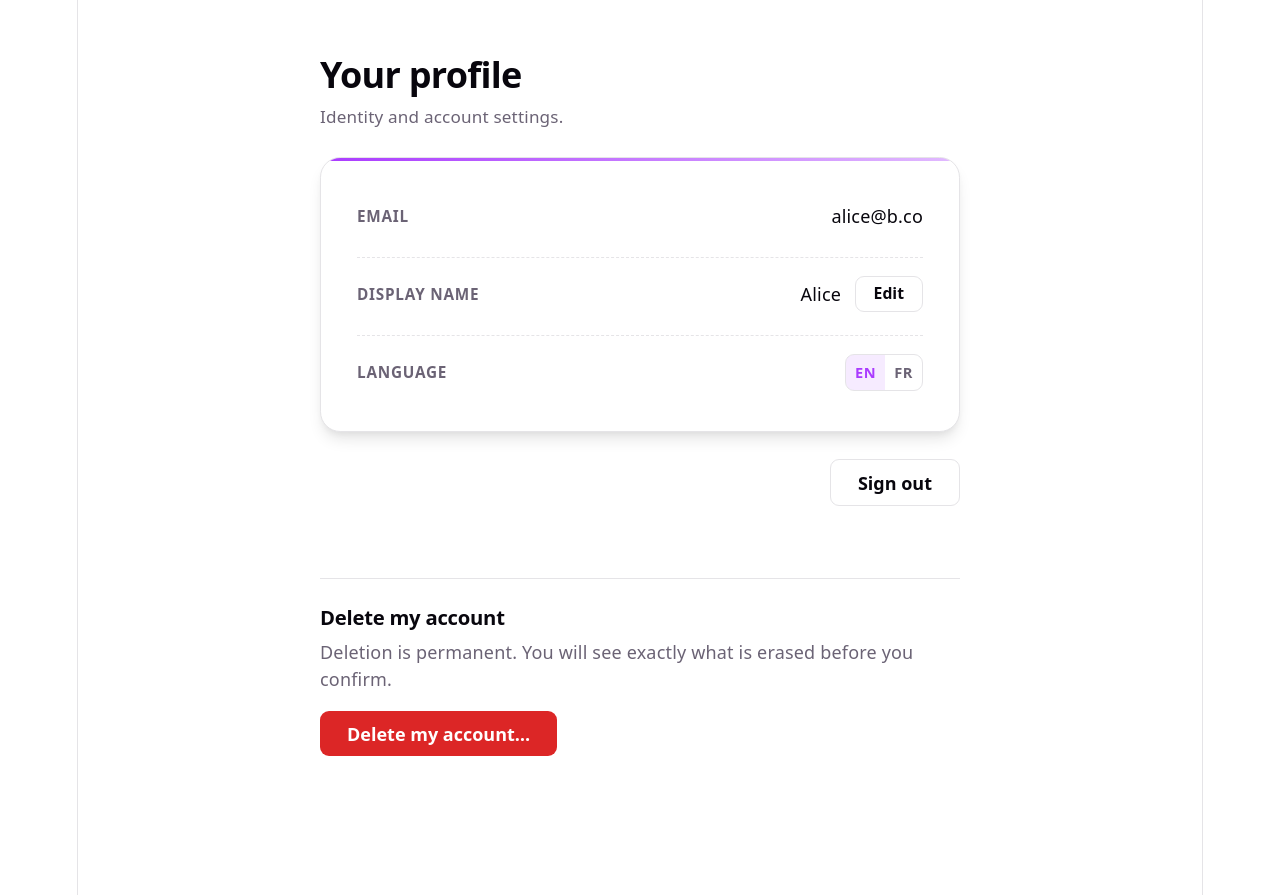
Test case: ProfilePage — display-name edit › surfaces a save error and keeps the form open on service failure
Click the button "Edit".
click(889, 294)  # box x1=855 y1=276 x2=923 y2=312
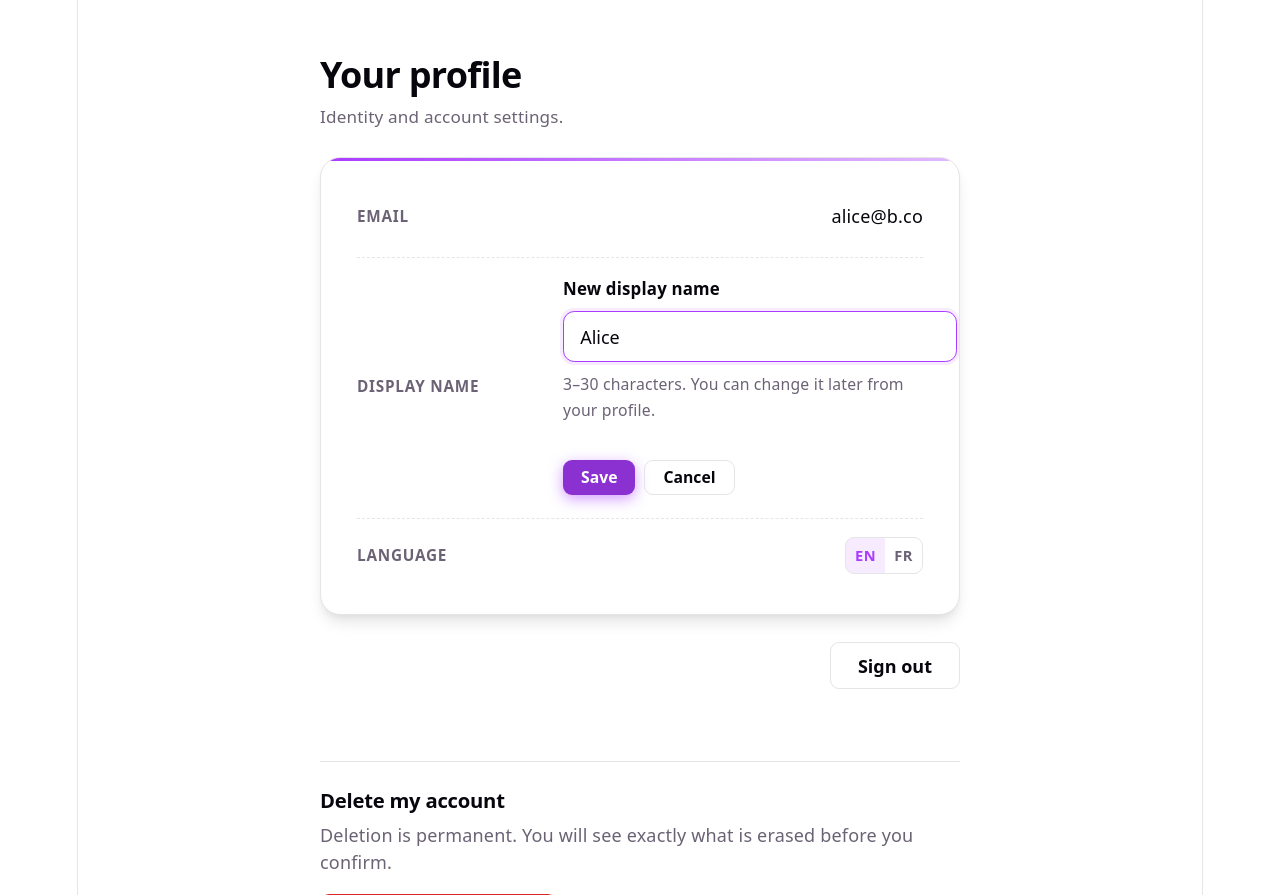
Replace the text in the field labelled "New display name" with "Valid Name" at (760, 337), box x1=563 y1=311 x2=957 y2=362
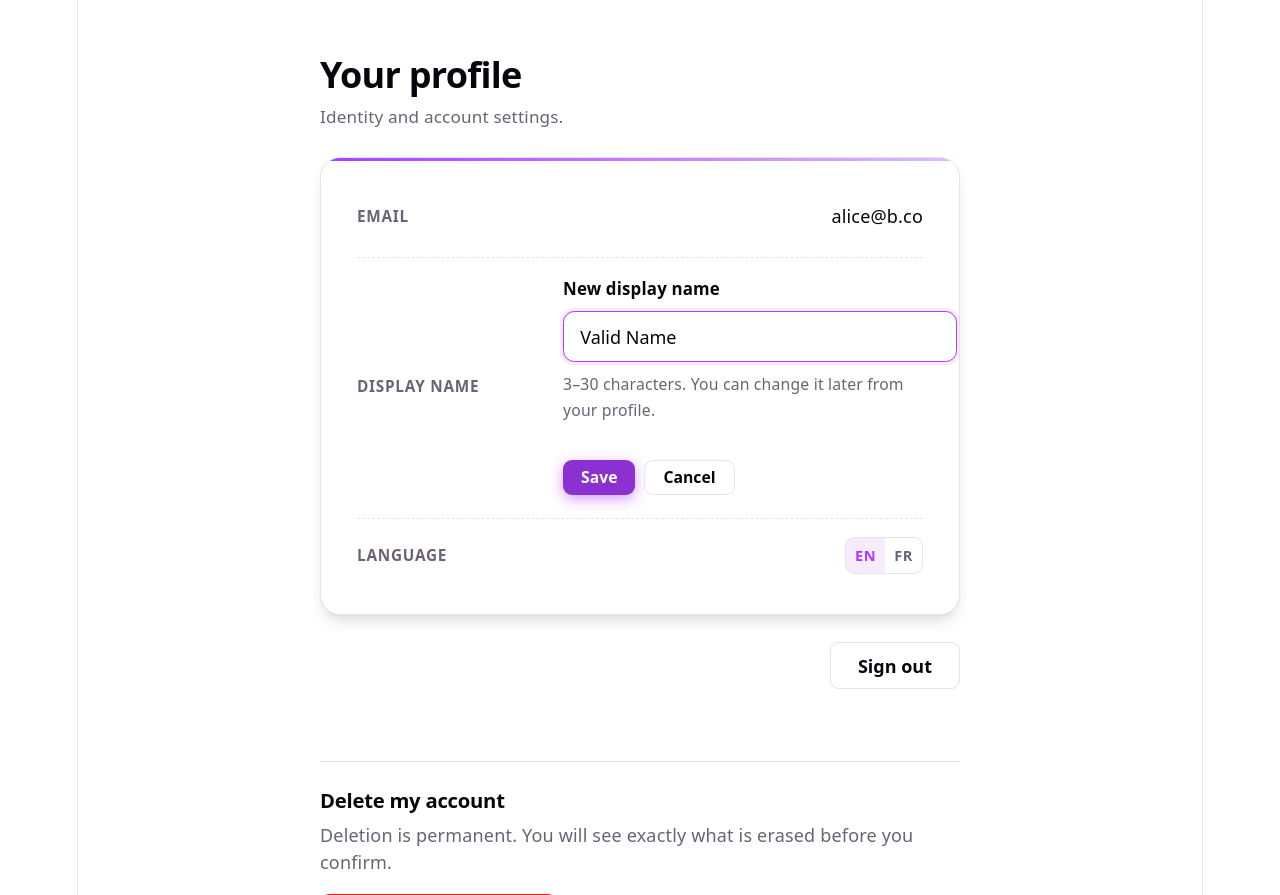
Click the button "Save".
click(599, 477)  # box x1=563 y1=460 x2=636 y2=495
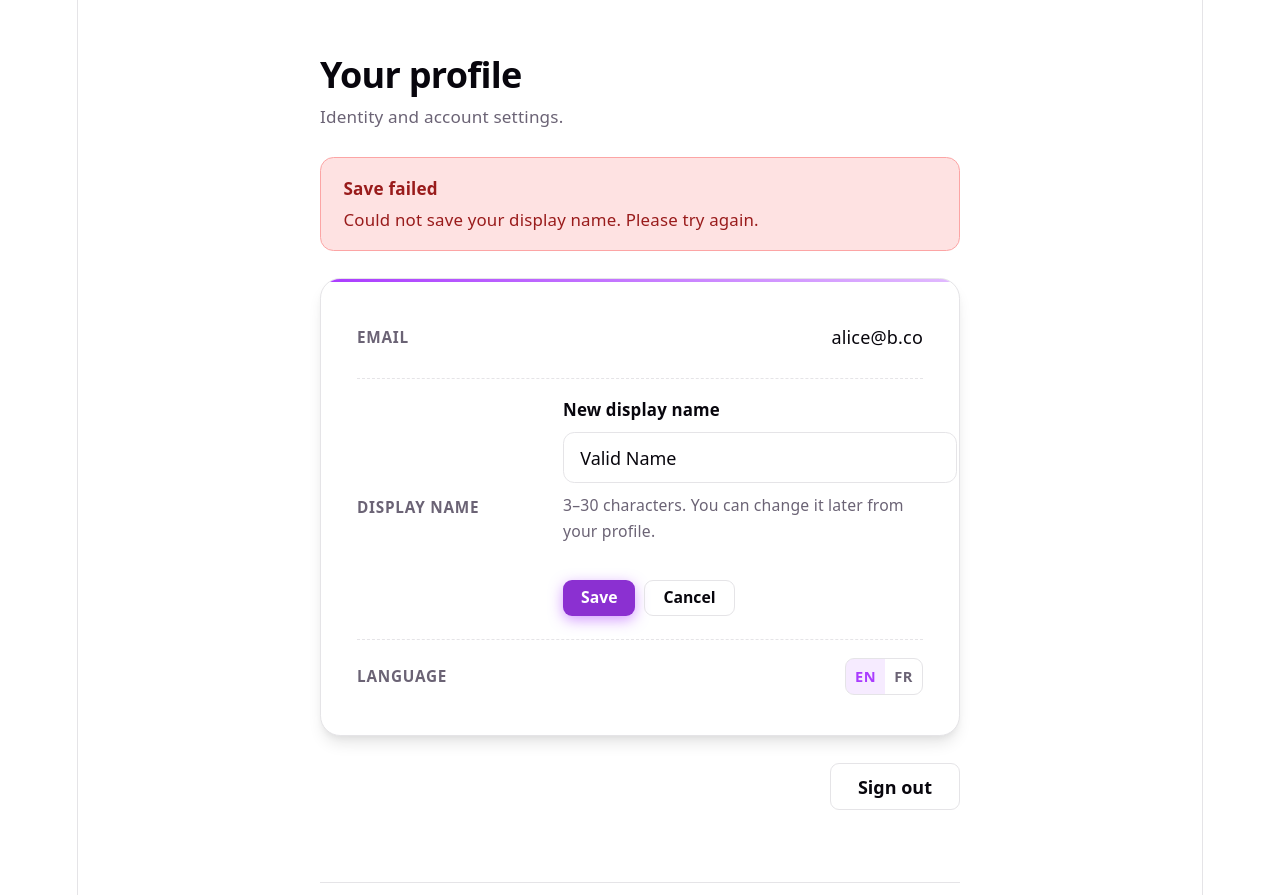
Result: the text "Could not save your display name. Please try again." is shown at x1=344 y1=208 x2=759 y2=231
